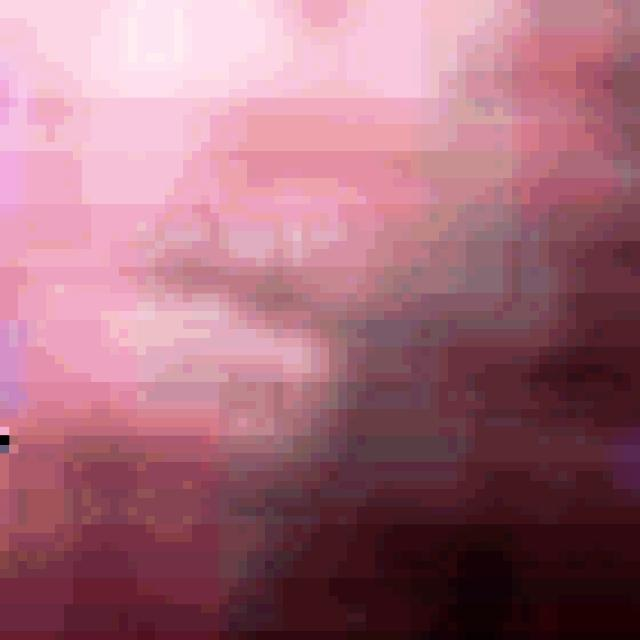arms: (0, 151, 82, 551)
